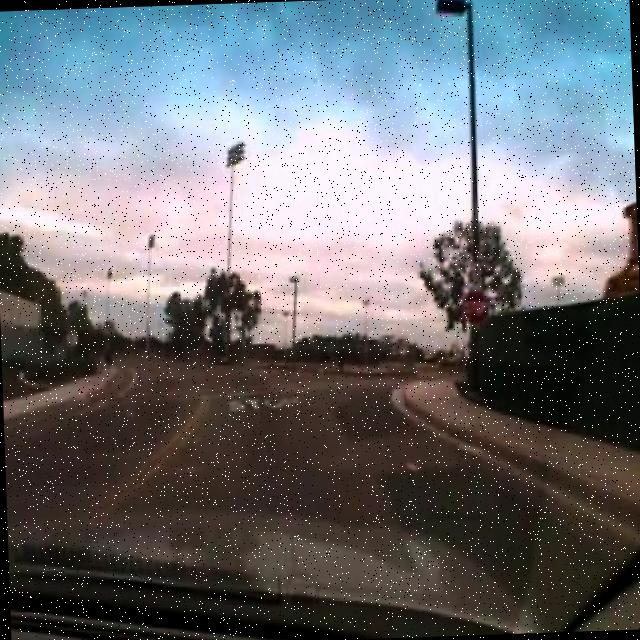Stop: (461, 288, 490, 327)
